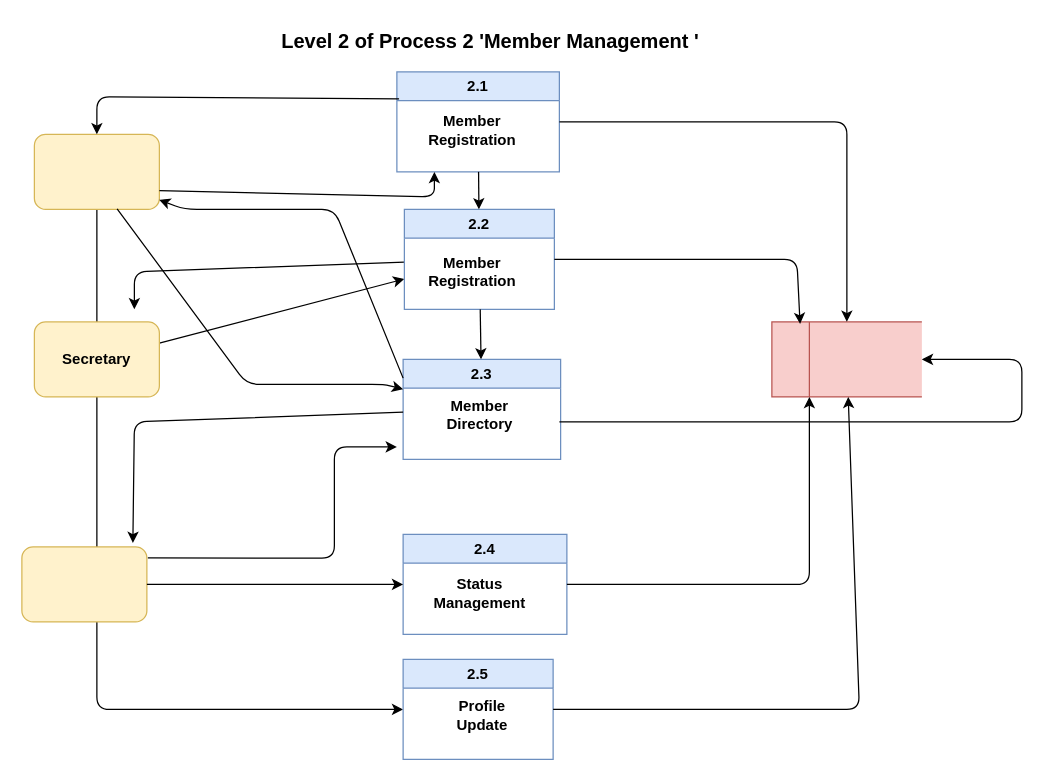
Some shapes in this 1054 by 781 pixel diagram are drawn without their labels. Here are the shapes that lost their labels. From the top down, the centre of each, then its label:
At point 96,171: "Member".
At point 846,359: "Member Database".
At point 84,584: "Manager".
